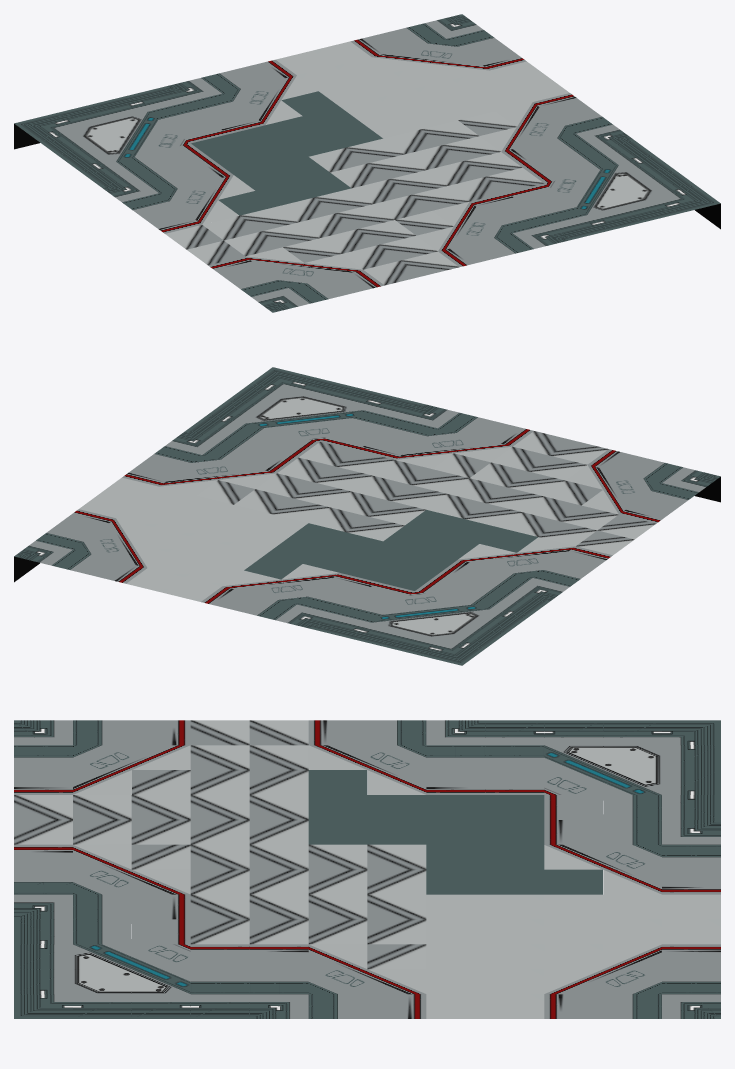
The model's file is Roundabout.fbx.
3 views of the same model, one above another, from view 1: azimuth 30°, elevation 25°; view 2: azimuth 150°, elevation 25°; view 3: azimuth 270°, elevation 25° (orthographic). The views are drawn at different scales.
Parts seen in each view (by area): view 1: SolHangar.003; view 2: SolHangar.003; view 3: SolHangar.003.
Boxes of the visible parts, bbox=[...] form: SolHangar.003: bbox=[14, 14, 720, 312]; SolHangar.003: bbox=[14, 367, 720, 665]; SolHangar.003: bbox=[14, 720, 720, 1018].
Size of the model in its own units: 900 by 900 by 50.
